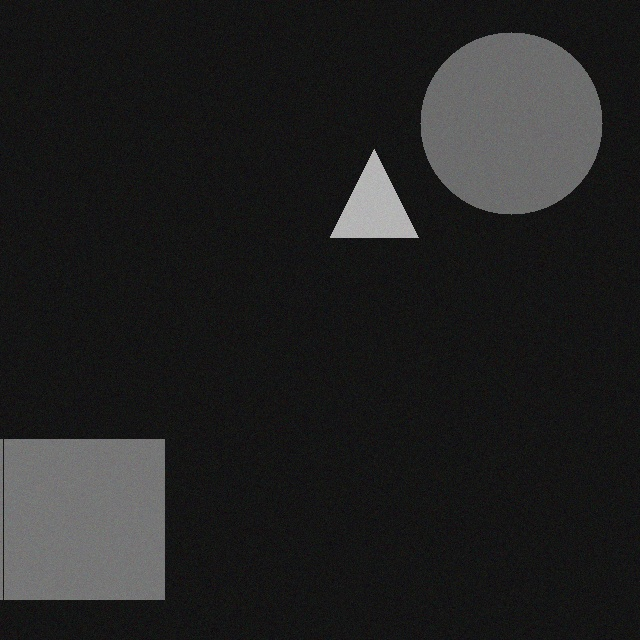circle: (417, 34, 599, 216)
square: (1, 441, 161, 601)
triangle: (327, 151, 415, 239)
